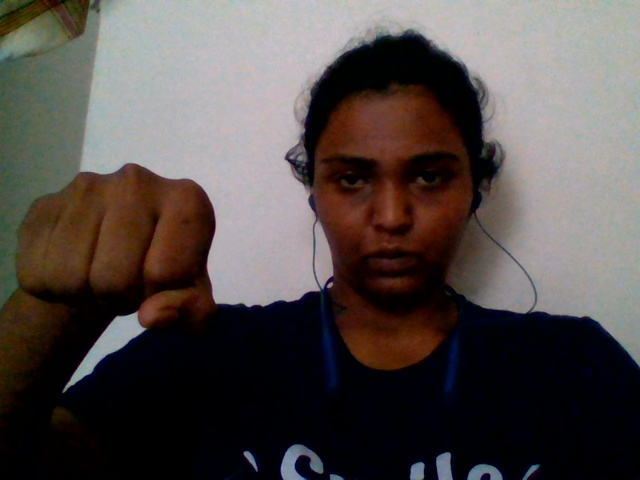Yes: (10, 141, 249, 350)
